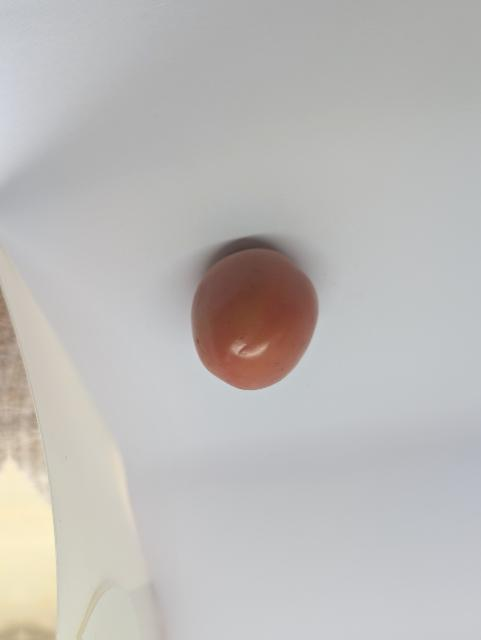turning: (185, 242, 327, 393)
